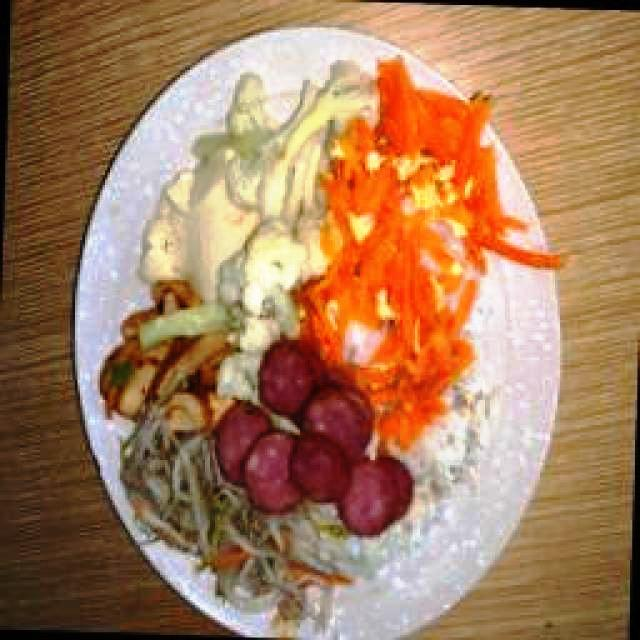carrot_eggs: (294, 54, 564, 452)
chinese_sausage: (211, 337, 415, 537)
